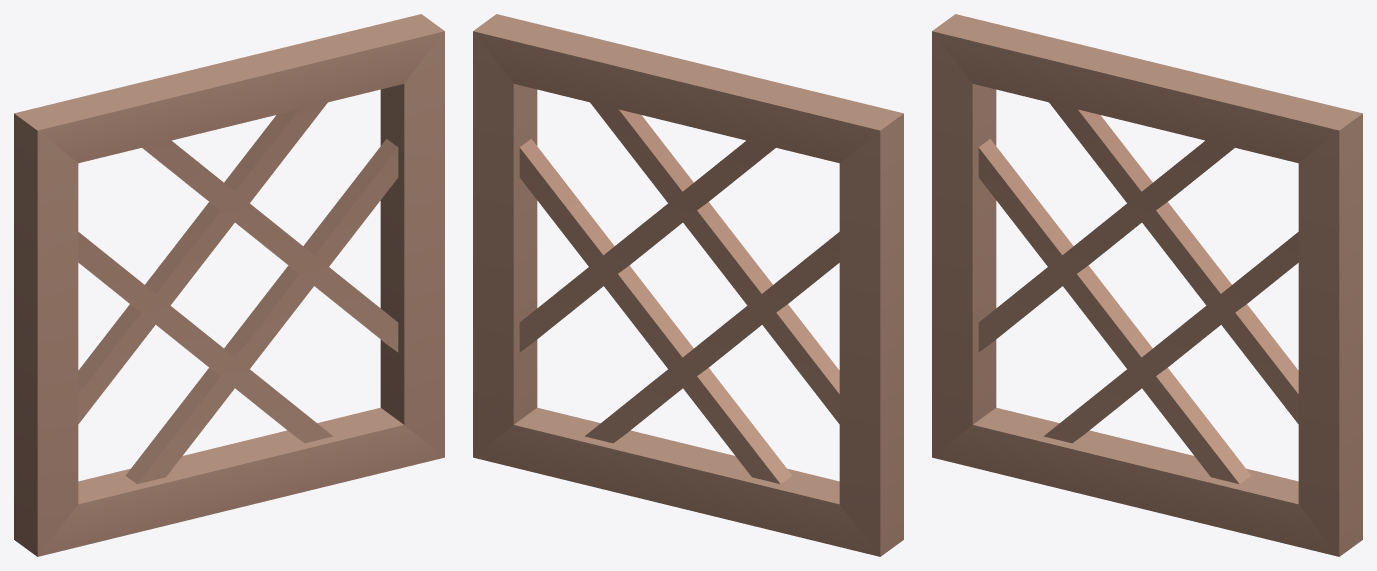
The model's file is frame-d.glb.
3 views of the same model, side by side, from view 1: azimuth 30°, elevation 25°; view 2: azimuth 150°, elevation 25°; view 3: azimuth 330°, elevation 25° (orthographic).
Parts seen in each view (by area): view 1: frame-d; view 2: frame-d; view 3: frame-d.
Boxes of the visible parts, x1,y1,x2,y2 form: frame-d: [14, 14, 444, 556]; frame-d: [473, 14, 903, 556]; frame-d: [932, 14, 1362, 556].
Size of the model in its own units: 1 by 1 by 0.1.
